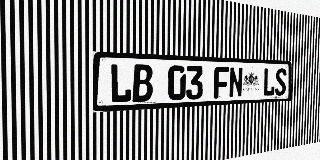0: (168, 65, 186, 101)
3: (186, 66, 203, 100)
B: (132, 64, 153, 102)
F: (214, 66, 229, 99)
L: (110, 64, 132, 103), (263, 68, 275, 96)
N: (229, 67, 243, 98)
S: (275, 68, 287, 96)
